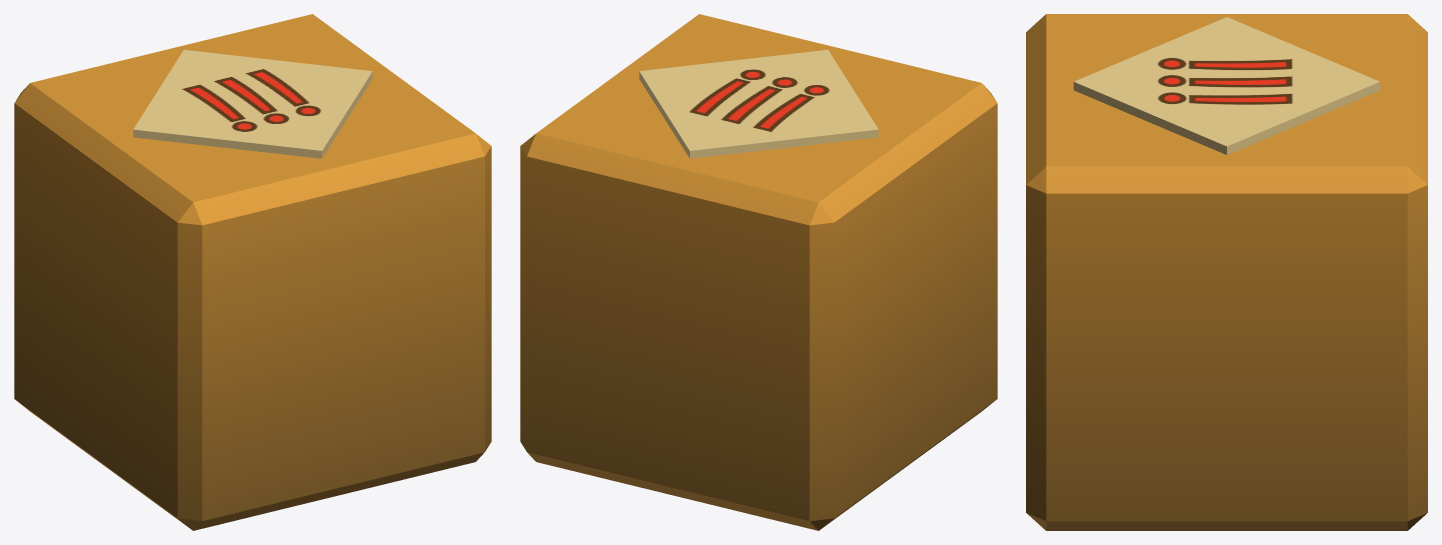
File: Tile_Danger_Gold_02.fbx
3 renders of one model, left to right at view 1: azimuth 30°, elevation 25°; view 2: azimuth 150°, elevation 25°; view 3: azimuth 270°, elevation 25°, orthographic. The views are drawn at different scales.
Visible parts, largest first — view 1: Tile Putih Plate Speed.020; view 2: Tile Putih Plate Speed.020; view 3: Tile Putih Plate Speed.020.
Part boxes in pixels (x1,y1,x2,y2): Tile Putih Plate Speed.020: (14,14,491,530); Tile Putih Plate Speed.020: (520,14,997,530); Tile Putih Plate Speed.020: (1026,14,1427,530).
Size of the model in its own units: 1 by 1.02 by 1.
1 material, 1 textured.
